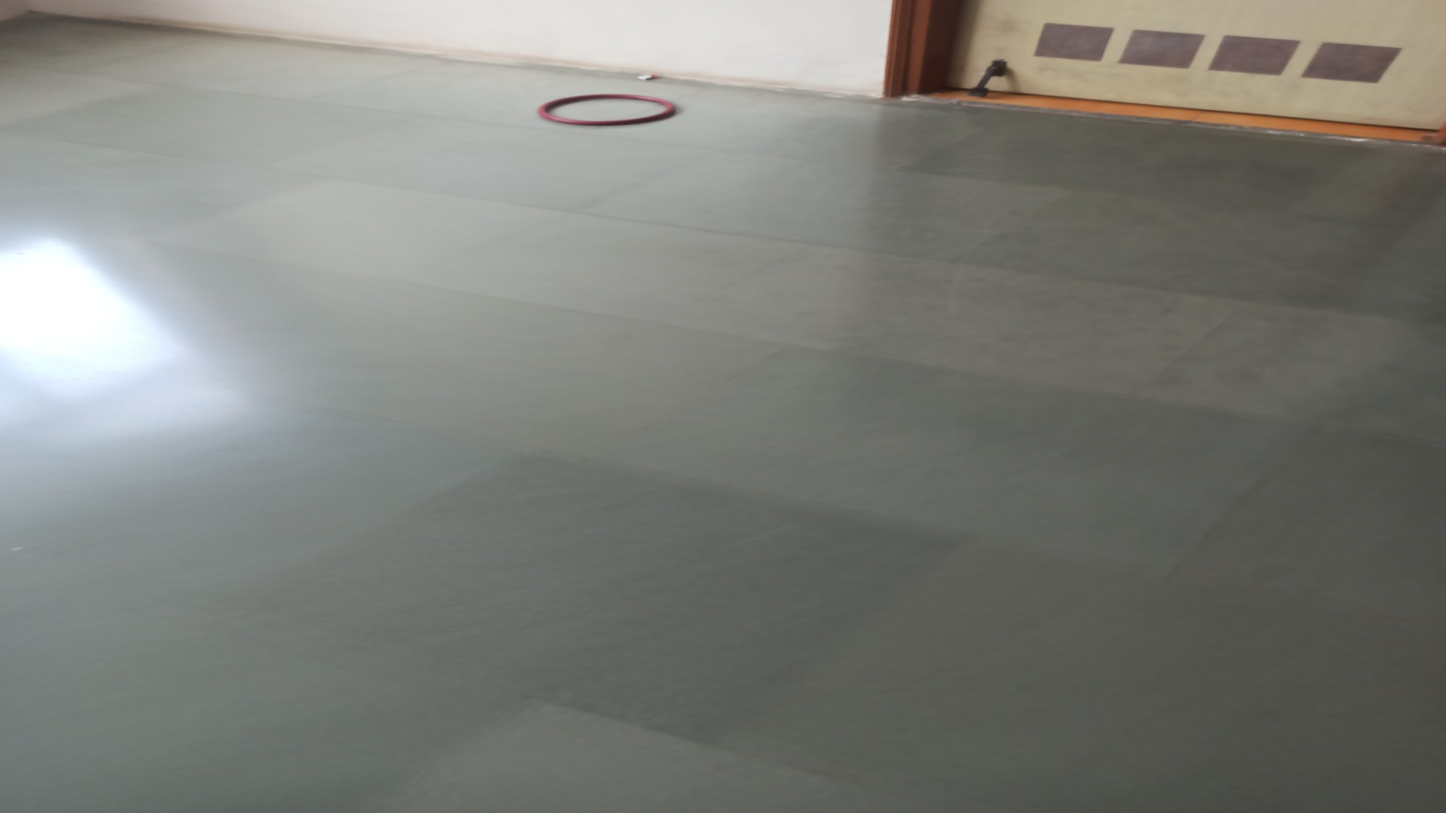Red ring: (538, 92, 677, 132)
